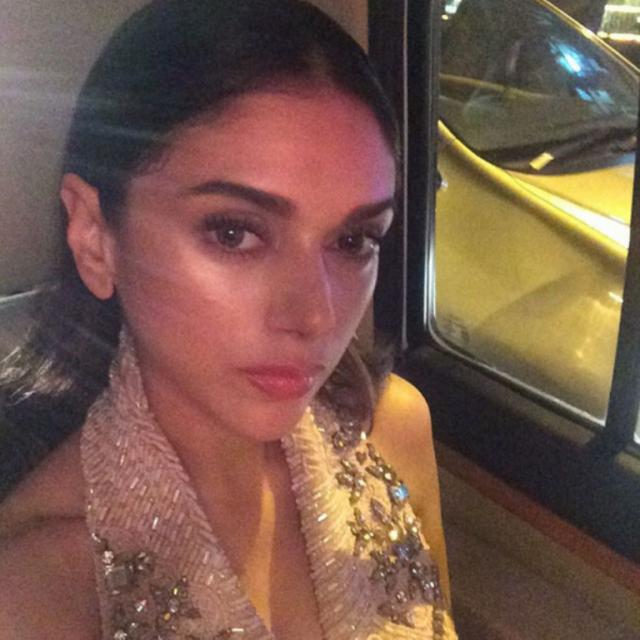earlobe: (82, 258, 115, 301)
eye: (197, 218, 270, 255), (329, 228, 378, 259)
nose: (272, 325, 344, 366)
wholeear: (58, 174, 115, 300)
